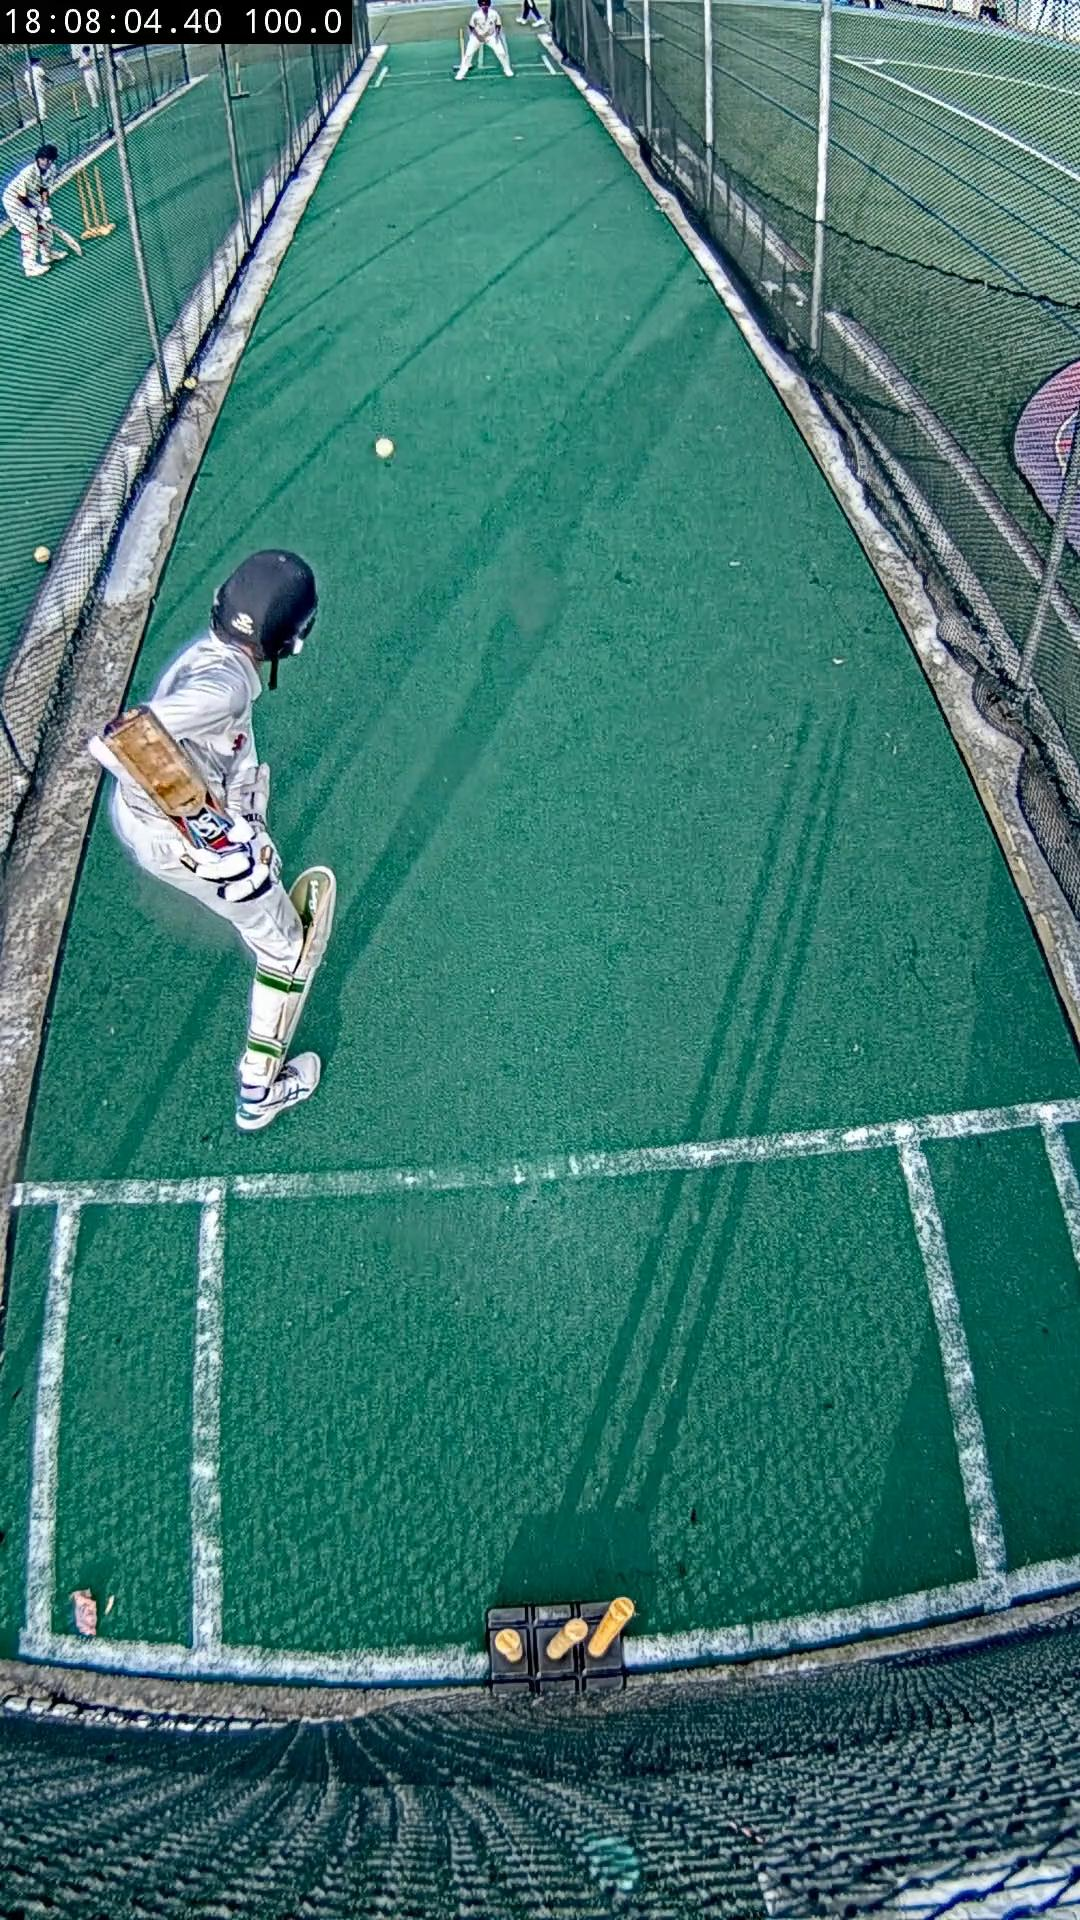ball: (375, 439, 394, 458)
bat: (102, 705, 244, 852)
gloves: (179, 836, 277, 903)
helmet: (214, 551, 319, 662)
pads: (277, 866, 338, 1044)
stumps: (488, 1597, 634, 1695)
